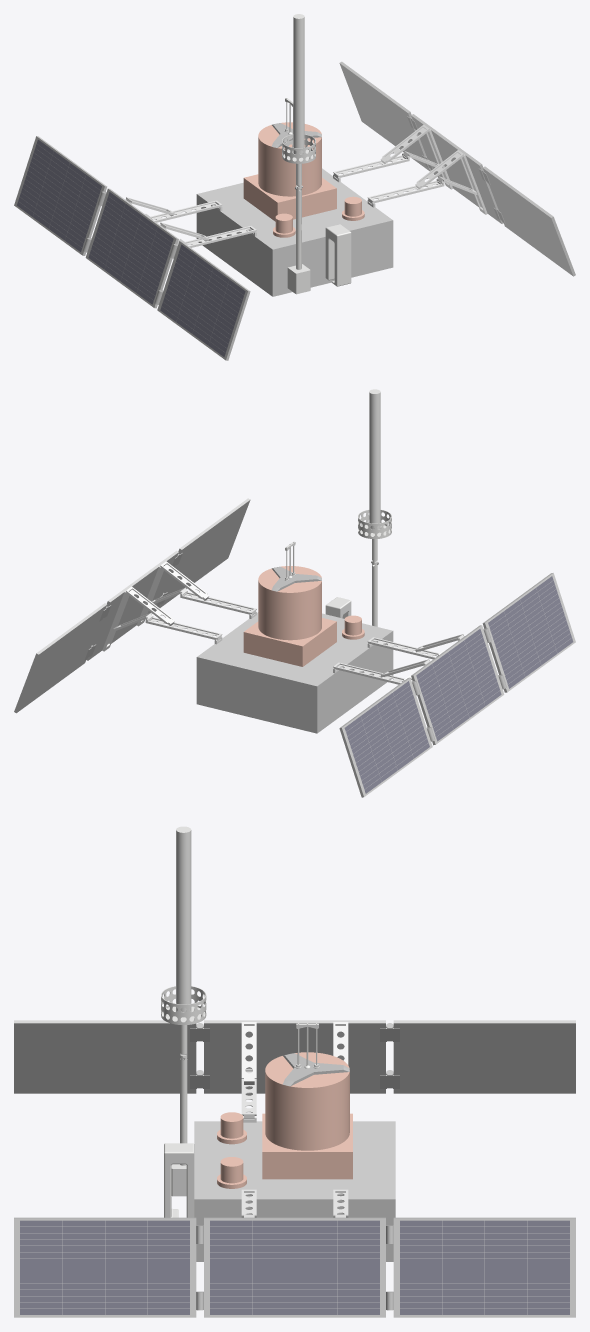
Rendered from psep.glb.
The picture shows the model from 3 angles, top to bottom: view 1: azimuth 30°, elevation 25°; view 2: azimuth 150°, elevation 25°; view 3: azimuth 270°, elevation 25°; orthographic projection. The views are drawn at different scales.
Parts seen in each view (by area): view 1: Body1, Body1.001, Body1.008, Body1.009, Body1.002, Body1.007, Body1.195, Body1.194, Body1.204, Body1.391, Body1.392, Body5 (+7 smaller); view 2: Body1, Body1.001, Body1.009, Body1.008, Body1.002, Body1.007, Body1.204, Body1.194, Body1.195, Body1.003, Body4.003, Body5 (+2 smaller); view 3: Body1.204, Body1, Body1.195, Body1.001, Body1.194, Body1.009, Body1.008, Body1.007, Body1.002, Body1.391, Body1.392, Body1.003 (+3 smaller).
Boxes of the visible parts, bbox=[...] form: Body1: bbox=[196, 168, 393, 296]; Body1.001: bbox=[243, 122, 336, 221]; Body1.008: bbox=[483, 166, 575, 276]; Body1.009: bbox=[339, 61, 431, 171]; Body1.002: bbox=[282, 14, 315, 185]; Body1.007: bbox=[411, 114, 503, 223]; Body1.195: bbox=[157, 241, 250, 360]; Body1.194: bbox=[85, 188, 178, 308]; Body1.204: bbox=[14, 136, 107, 255]; Body1.391: bbox=[325, 224, 351, 286]; Body1.392: bbox=[287, 185, 310, 294]; Body5: bbox=[367, 178, 444, 203]; Body1: bbox=[196, 612, 393, 733]; Body1.001: bbox=[243, 566, 336, 666]; Body1.009: bbox=[14, 603, 107, 713]; Body1.008: bbox=[158, 498, 250, 607]; Body1.002: bbox=[358, 389, 391, 560]; Body1.007: bbox=[86, 550, 178, 660]; Body1.204: bbox=[339, 677, 432, 797]; Body1.194: bbox=[411, 625, 504, 745]; Body1.195: bbox=[482, 573, 575, 692]; Body1.003: bbox=[271, 566, 321, 591]; Body4.003: bbox=[145, 615, 222, 640]; Body5: bbox=[180, 589, 256, 615]; Body1.204: bbox=[393, 1020, 575, 1093]; Body1: bbox=[194, 1121, 395, 1261]; Body1.195: bbox=[14, 1020, 196, 1093]; Body1.001: bbox=[262, 1052, 352, 1179]; Body1.194: bbox=[204, 1020, 385, 1093]; Body1.009: bbox=[393, 1217, 575, 1317]; Body1.008: bbox=[14, 1217, 196, 1317]; Body1.007: bbox=[204, 1217, 385, 1317]; Body1.002: bbox=[161, 826, 206, 1054]; Body1.391: bbox=[164, 1143, 194, 1217]; Body1.392: bbox=[171, 1055, 187, 1196]; Body1.003: bbox=[283, 1053, 349, 1086].
Bounding box in the file's own units: 1.78 × 1.35 × 1.86.
